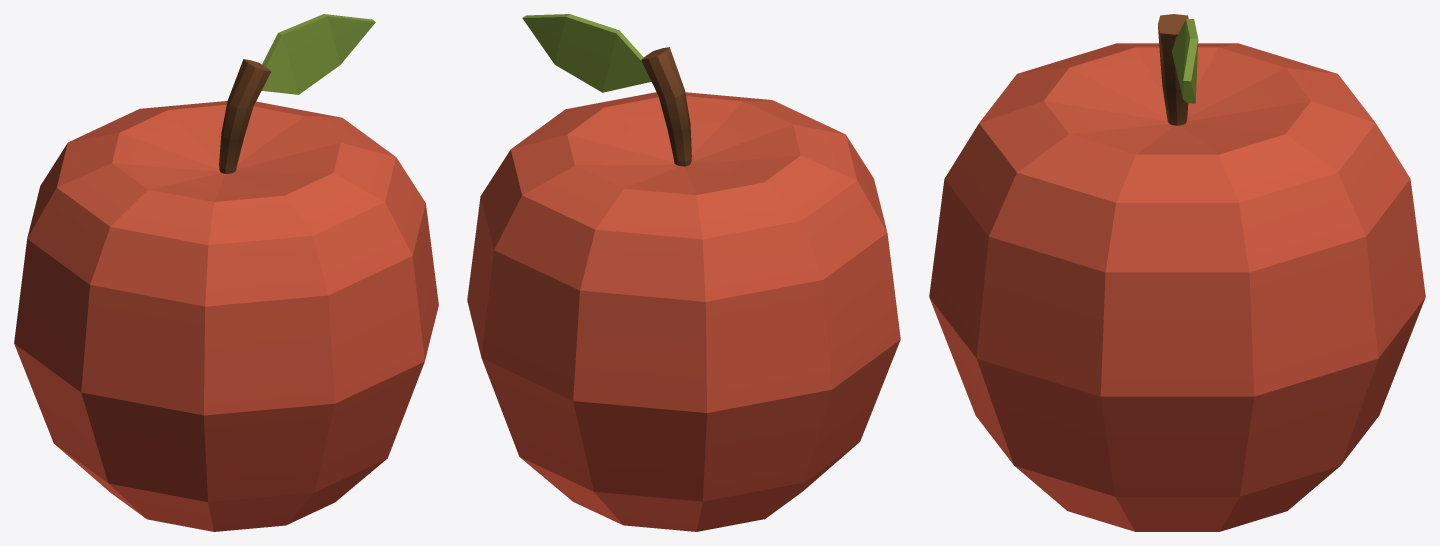
The model's file is apple_1a.glb.
3 views of the same model, side by side, from view 1: azimuth 30°, elevation 25°; view 2: azimuth 150°, elevation 25°; view 3: azimuth 270°, elevation 25° (orthographic). The views are drawn at different scales.
Parts seen in each view (by area): view 1: apple_1a; view 2: apple_1a; view 3: apple_1a.
Part boxes in pixels (x1=…): apple_1a: x1=14, y1=14, x2=438, y2=531; apple_1a: x1=467, y1=14, x2=900, y2=531; apple_1a: x1=929, y1=14, x2=1425, y2=531.
Size of the model in its own units: 0.1112 by 0.1327 by 0.1169.
Materials: 1 (1 with a texture image).
